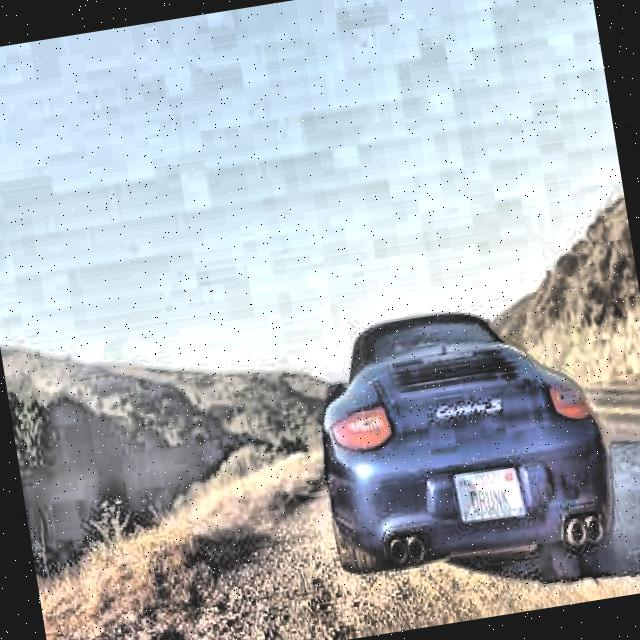license_plate: (455, 464, 524, 524)
